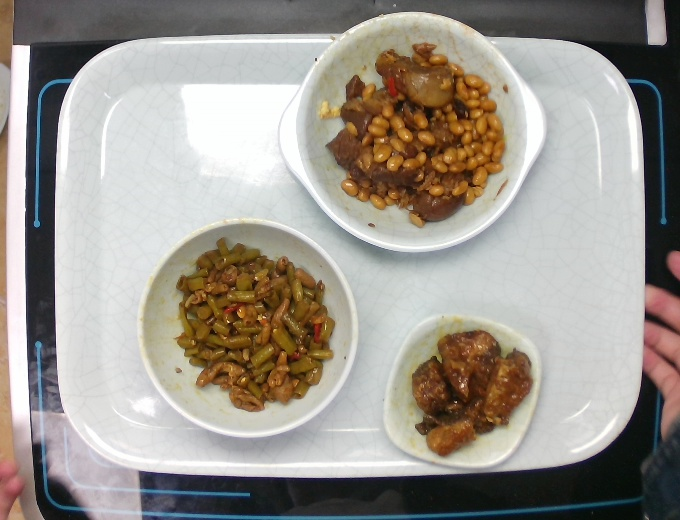JYsf-Fan_Wan: (135, 216, 361, 440)
JYsf-Shuang_Er_Wan: (276, 10, 549, 256)
JYsf-Si_Fang_Die: (379, 312, 543, 471)
